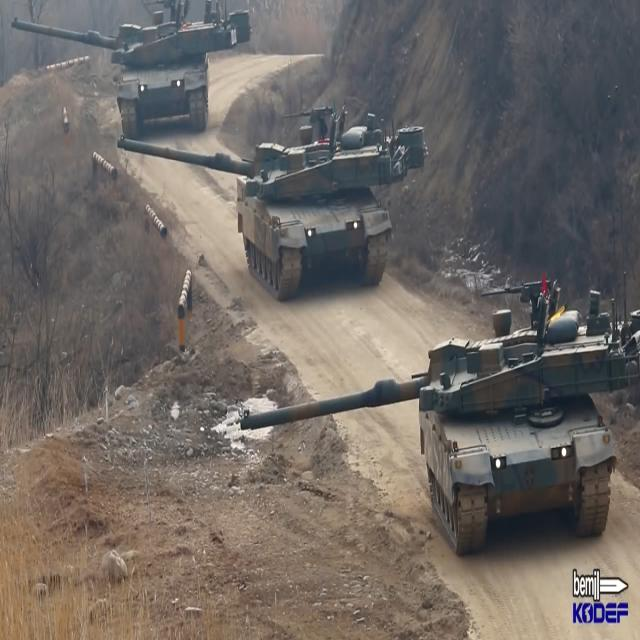korea tank: (117, 103, 429, 300)
